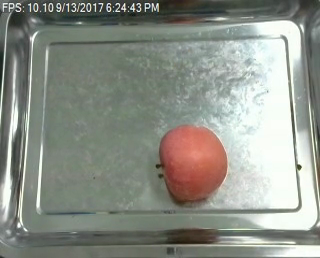Apple: (158, 122, 227, 202)
